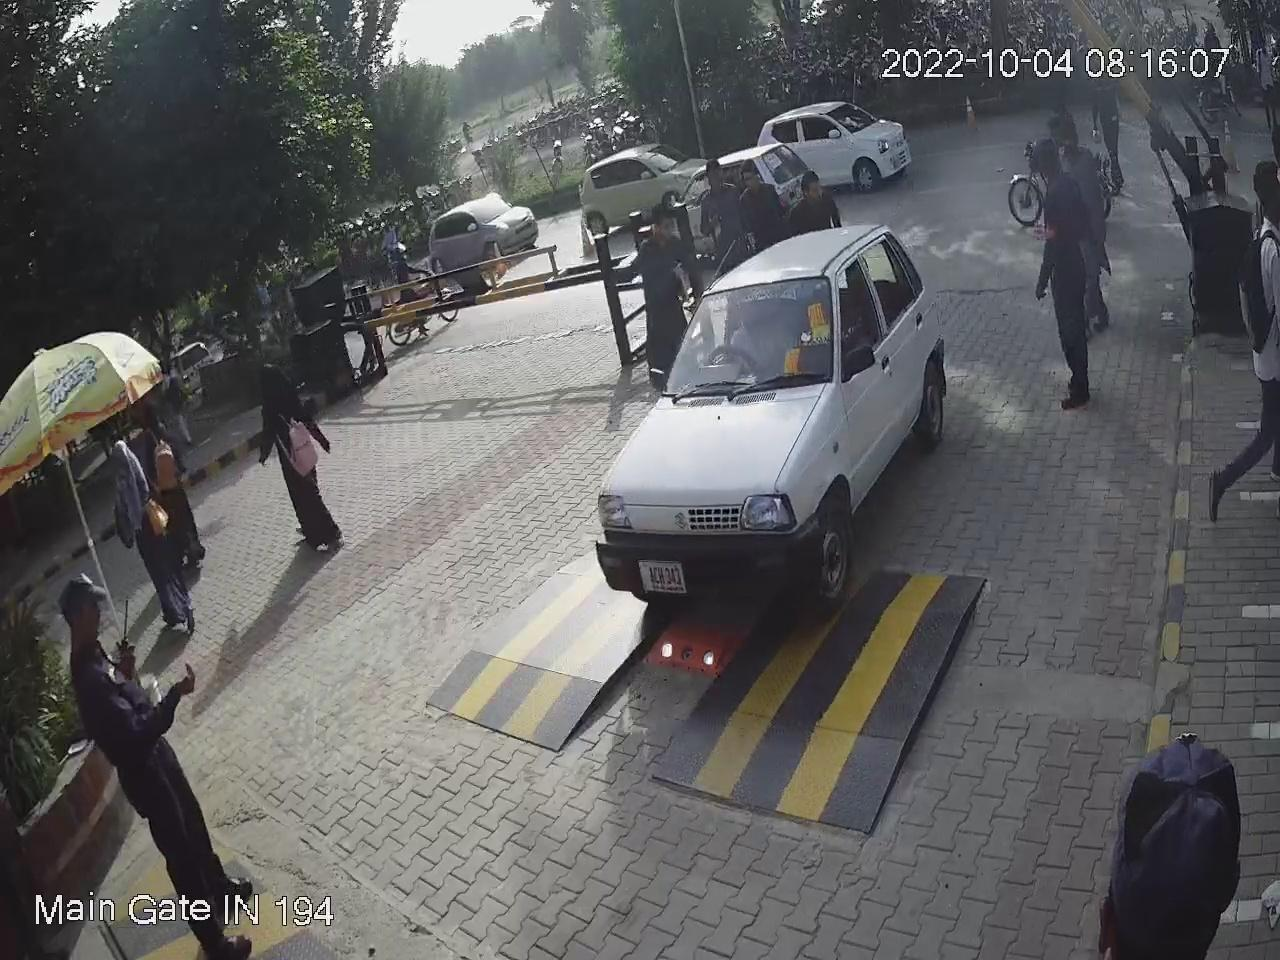windshield: (653, 255, 841, 400)
